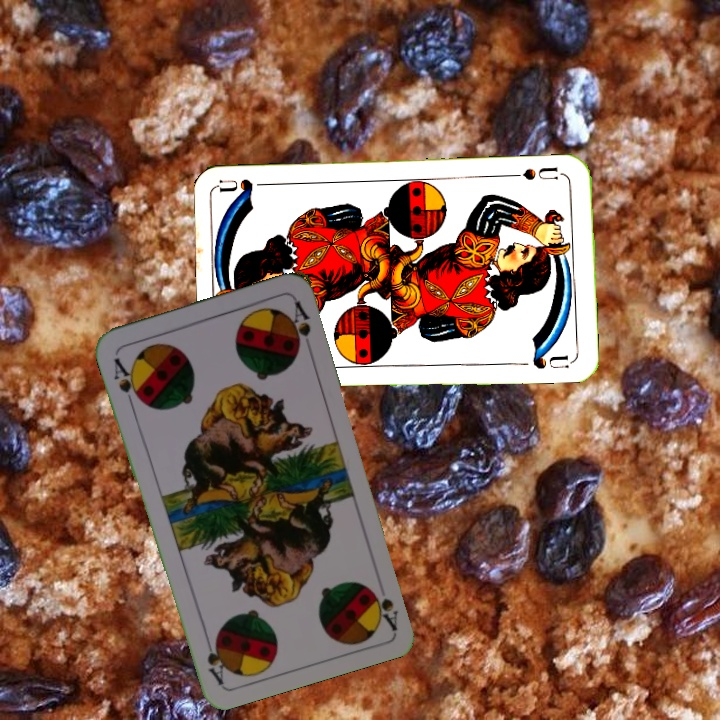SA: (109, 354, 145, 409), (368, 585, 401, 632)
SU: (507, 163, 566, 183)
